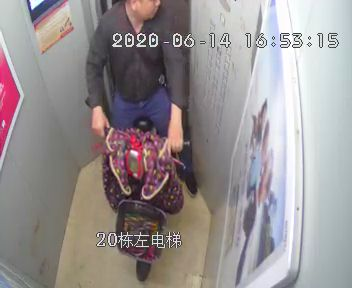Electric-bicycle: (99, 125, 190, 281)
